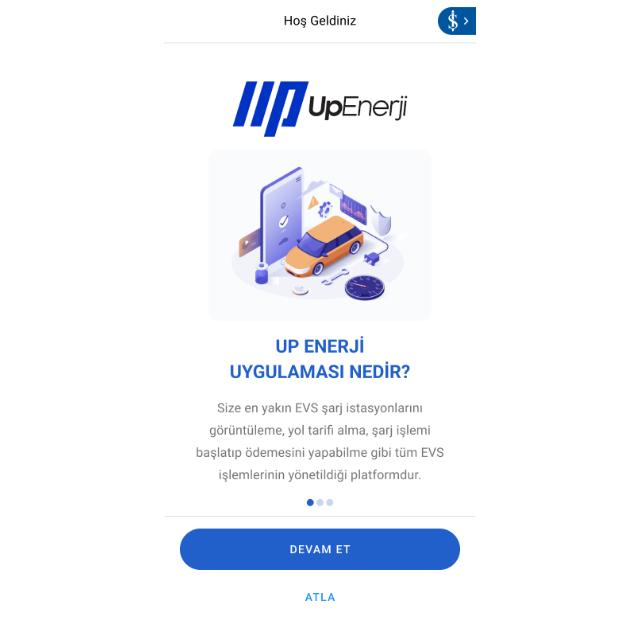QLabel: (284, 542, 354, 558), (300, 589, 338, 605)
VAppBar: (164, 0, 476, 44)
VBtn: (180, 530, 462, 570), (180, 584, 464, 614)
VCarousel: (172, 68, 470, 510)
VFooter: (164, 514, 476, 640)
VImg: (438, 7, 476, 36)
